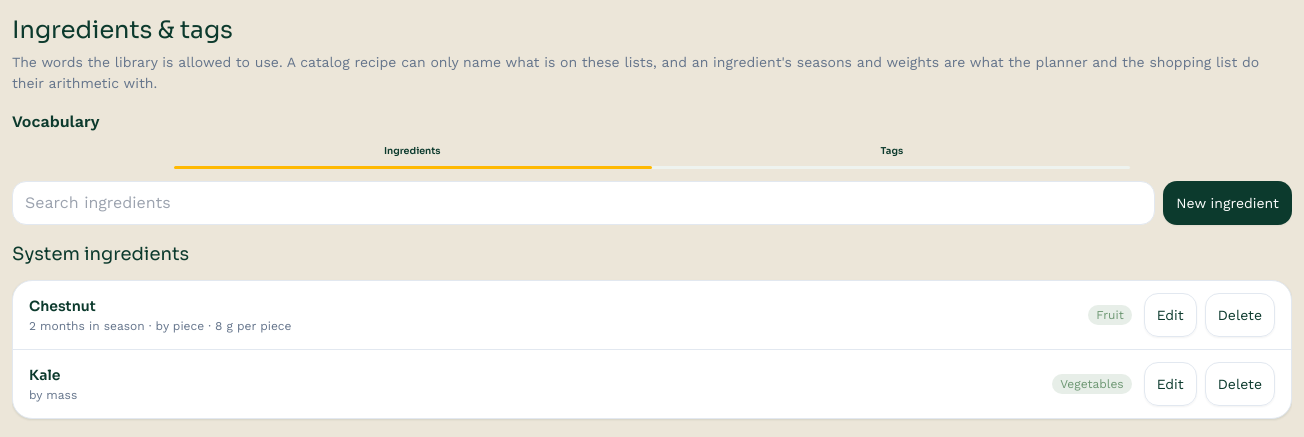
Test: the search narrows the list without asking the server again
Expected: the text "Chestnut" is shown, [29,297,96,315]
Type "kal" into the search field named "Search the vocabulary" at (584, 203), box [12,181,1155,225]
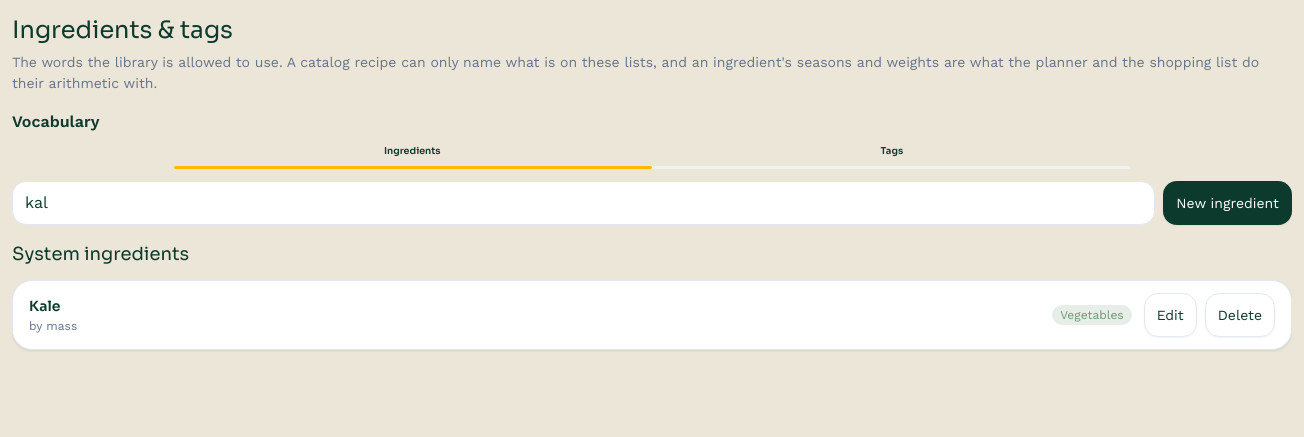
Expected: the text "Kale" is shown, [29,297,60,315]
Expected: the text "Chestnut" is gone
